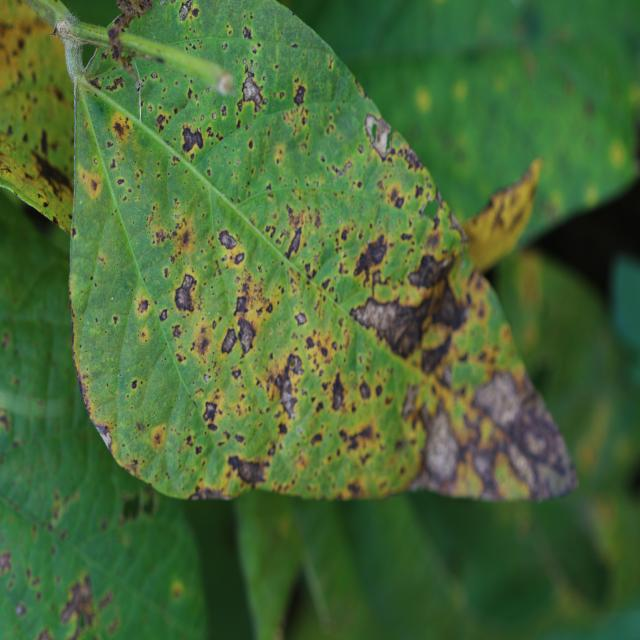Bacterial_Blight: (352, 245, 469, 374), (472, 374, 568, 513), (397, 392, 466, 505), (221, 291, 266, 369), (225, 444, 284, 496), (233, 65, 277, 123), (173, 269, 211, 328), (270, 348, 304, 412), (274, 213, 315, 265), (349, 241, 390, 287), (221, 227, 255, 276), (172, 128, 220, 162)
Soybean: (38, 0, 580, 505)
